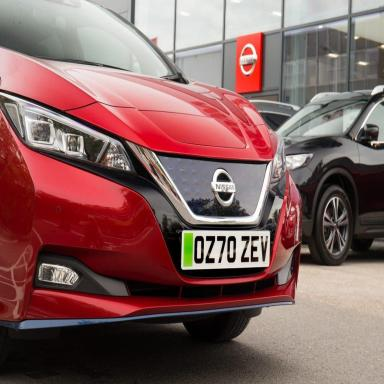License_Plate: (179, 226, 273, 276)
